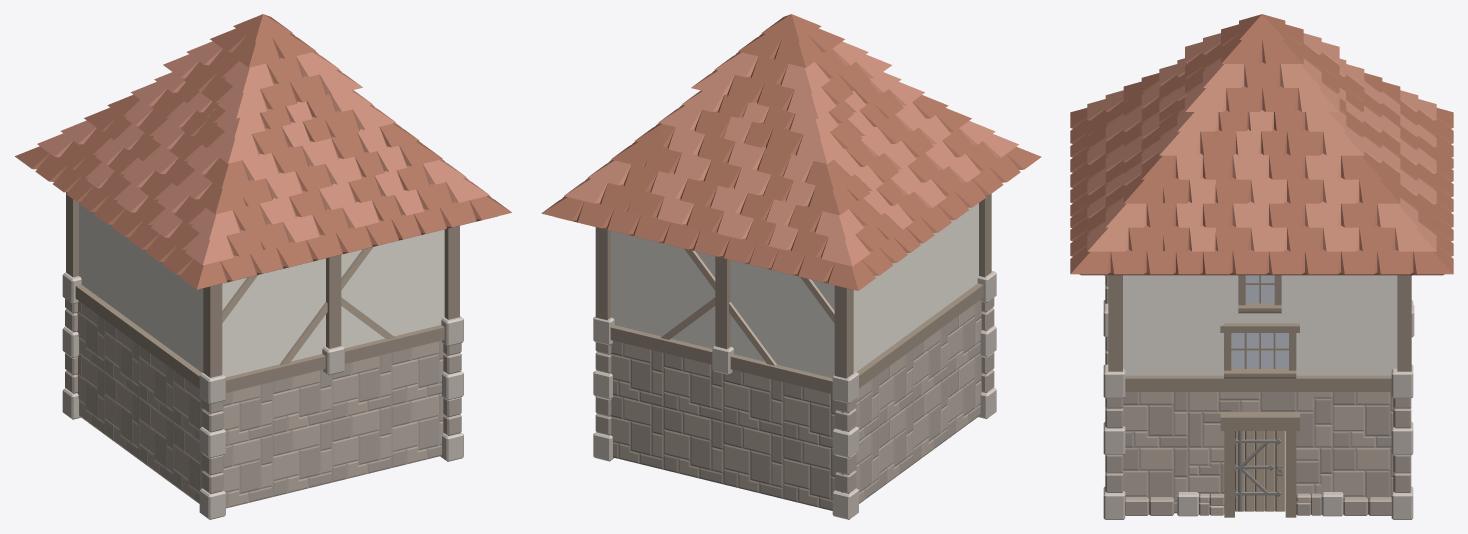
File: house1.glb
3 views of the same model, side by side, from view 1: azimuth 30°, elevation 25°; view 2: azimuth 150°, elevation 25°; view 3: azimuth 270°, elevation 25° (orthographic). The views are drawn at different scales.
Parts seen in each view (by area): view 1: hosue1; view 2: hosue1; view 3: hosue1.
Boxes of the visible parts, left/top/right/bottom form: hosue1: left=15, top=14, right=511, bottom=519; hosue1: left=541, top=14, right=1041, bottom=519; hosue1: left=1070, top=14, right=1453, bottom=519.
Bounding box in the file's own units: 5.31 × 6.75 × 5.31.
